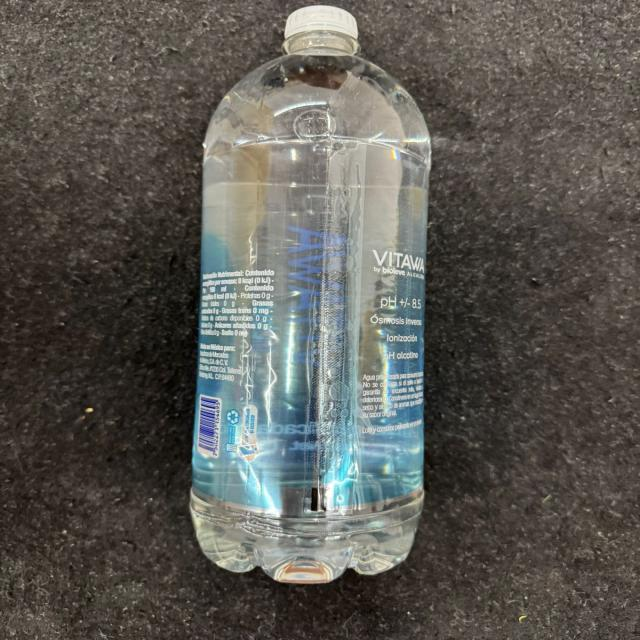AGUA ALCALINA VITAWA 1LT: (190, 3, 440, 584)
